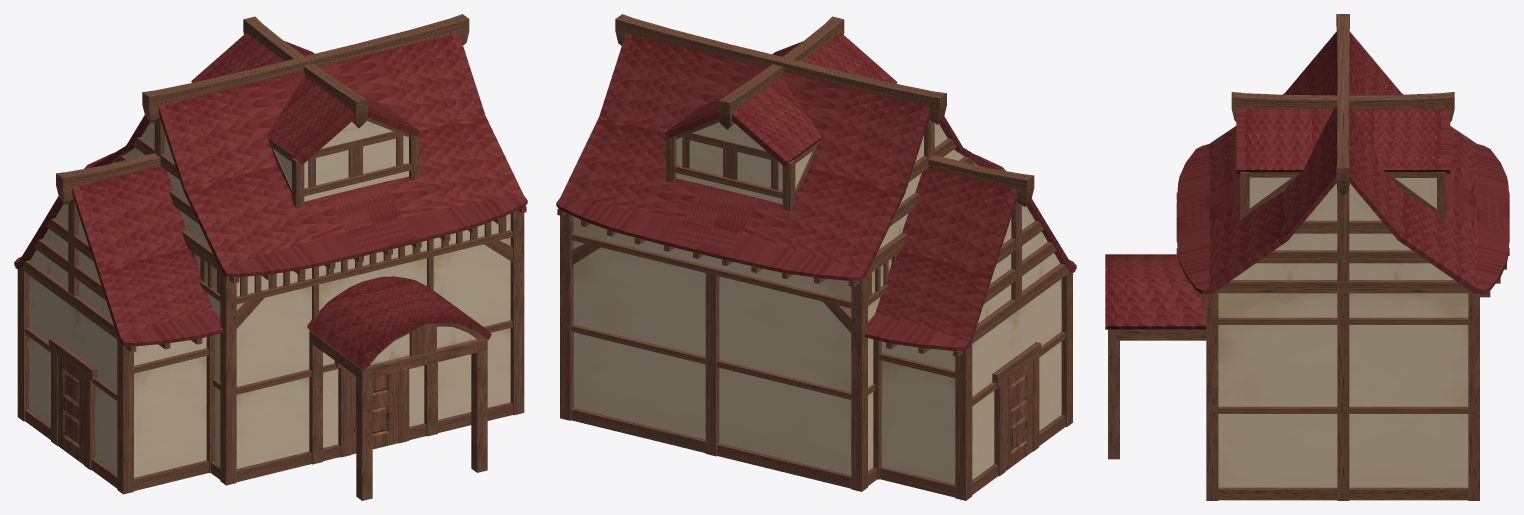
File: 2_Story_House3_MESH_1.fbx
The picture shows the model from 3 angles, left to right: view 1: azimuth 30°, elevation 25°; view 2: azimuth 150°, elevation 25°; view 3: azimuth 270°, elevation 25°; orthographic projection. The views are drawn at different scales.
Parts seen in each view (by area): view 1: pCube2666; view 2: pCube2666; view 3: pCube2666.
Boxes of the visible parts, x1=… form: pCube2666: x1=14, y1=14, x2=527, y2=500; pCube2666: x1=556, y1=14, x2=1076, y2=500; pCube2666: x1=1105, y1=14, x2=1509, y2=500.
Bounding box in the file's own units: 1414 × 1140 × 1236.
